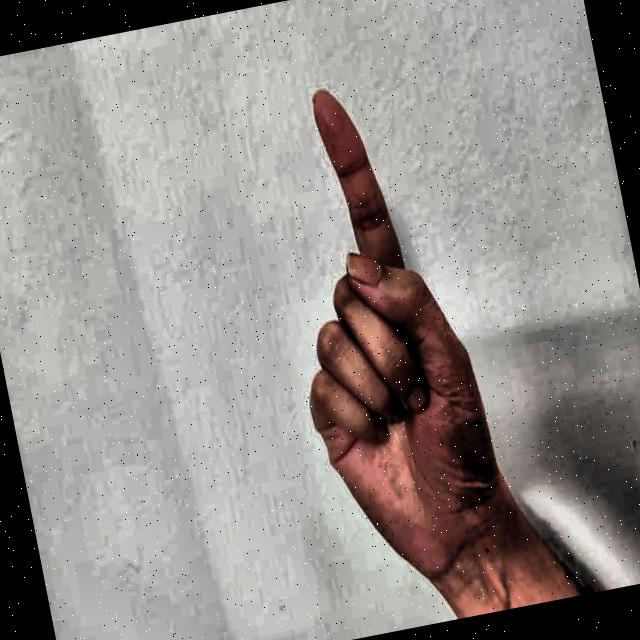U: (207, 30, 558, 588)
